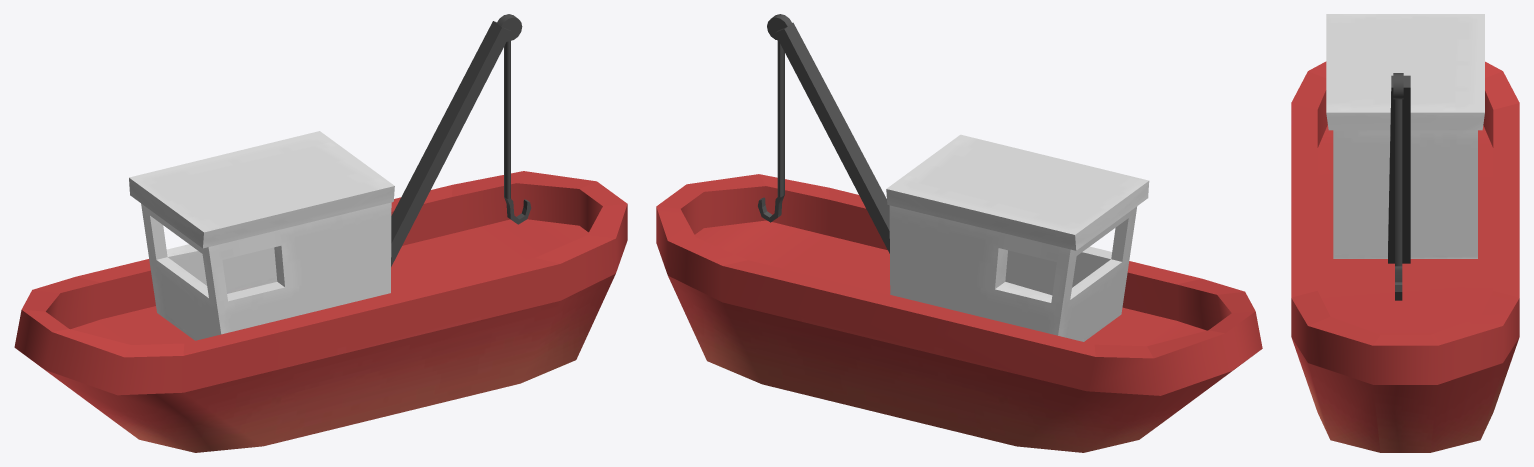
The model's file is Ship_model - Copy.fbx.
3 renders of one model, left to right at view 1: azimuth 30°, elevation 25°; view 2: azimuth 150°, elevation 25°; view 3: azimuth 270°, elevation 25°, orthographic. The views are drawn at different scales.
Parts seen in each view (by area): view 1: Ship, Ship_rope; view 2: Ship, Ship_rope; view 3: Ship, Ship_rope.
Boxes of the visible parts, left/top/right/bottom form: Ship: left=14, top=14, right=627, bottom=452; Ship_rope: left=504, top=41, right=531, bottom=224; Ship: left=656, top=14, right=1262, bottom=452; Ship_rope: left=758, top=40, right=784, bottom=222; Ship: left=1291, top=14, right=1519, bottom=452; Ship_rope: left=1395, top=99, right=1402, bottom=300.
Bounding box in the file's own units: 13.07 × 7.14 × 4.2.
